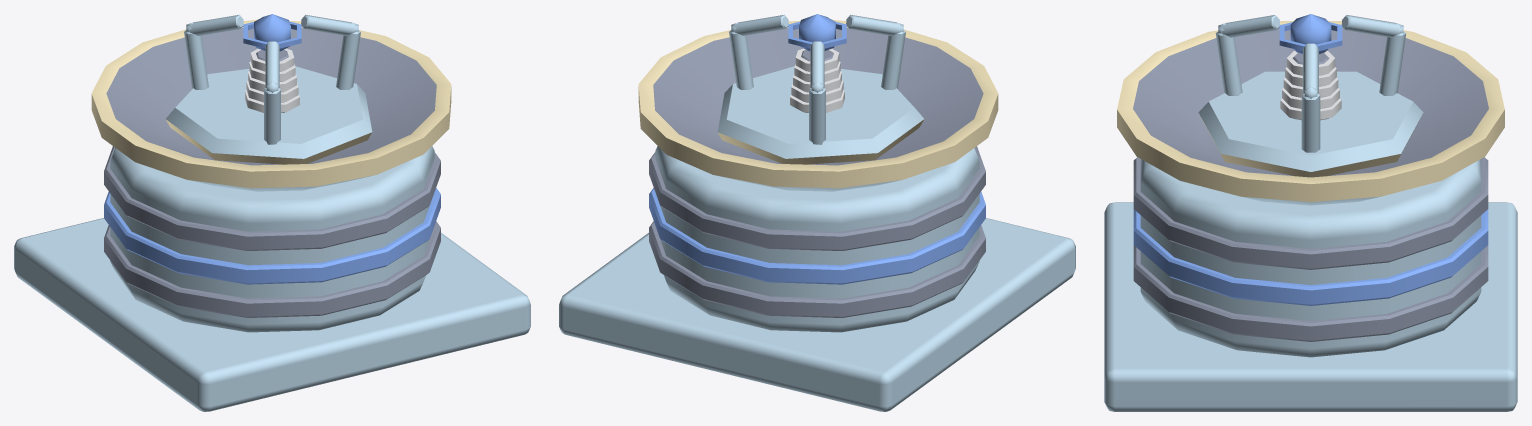
Rendered from R4X_EMPTrapDeployer.fbx.
3 renders of one model, left to right at view 1: azimuth 30°, elevation 25°; view 2: azimuth 150°, elevation 25°; view 3: azimuth 270°, elevation 25°, orthographic. The views are drawn at different scales.
Visible parts, largest first — view 1: R4X_EMPTrapDeployer_Body, R4X_EMPTrapDeployer_Payload; view 2: R4X_EMPTrapDeployer_Body, R4X_EMPTrapDeployer_Payload; view 3: R4X_EMPTrapDeployer_Body, R4X_EMPTrapDeployer_Payload.
Boxes of the visible parts, left/top/right/bottom form: R4X_EMPTrapDeployer_Body: left=14, top=19, right=530, bottom=411; R4X_EMPTrapDeployer_Payload: left=165, top=14, right=372, bottom=164; R4X_EMPTrapDeployer_Body: left=559, top=19, right=1075, bottom=411; R4X_EMPTrapDeployer_Payload: left=717, top=14, right=924, bottom=164; R4X_EMPTrapDeployer_Body: left=1104, top=21, right=1517, bottom=411; R4X_EMPTrapDeployer_Payload: left=1198, top=14, right=1423, bottom=177.
Bounding box in the file's own units: 0.52 × 0.437 × 0.52.
